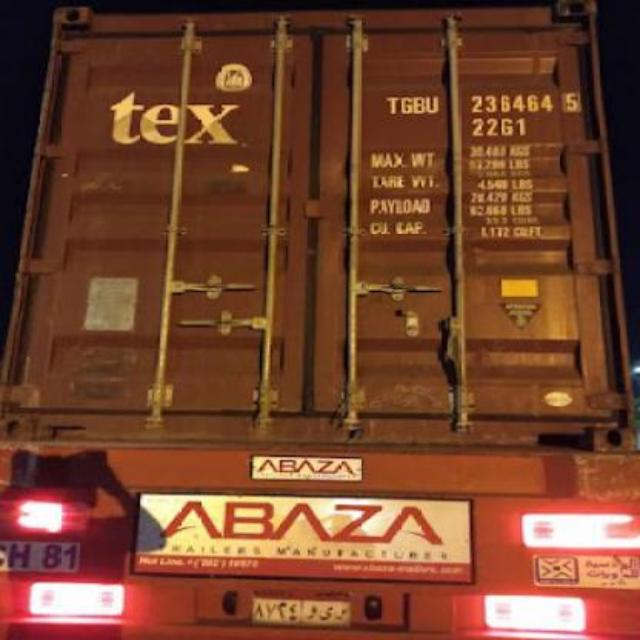2: (472, 93, 484, 113)
3: (486, 93, 498, 113)
4: (508, 92, 530, 112), (538, 90, 556, 114)
5: (560, 90, 580, 112)
6: (526, 90, 542, 114), (498, 92, 512, 112)
B: (414, 94, 426, 116)
G: (400, 94, 412, 114)
T: (388, 94, 400, 115)
U: (424, 92, 442, 112)
